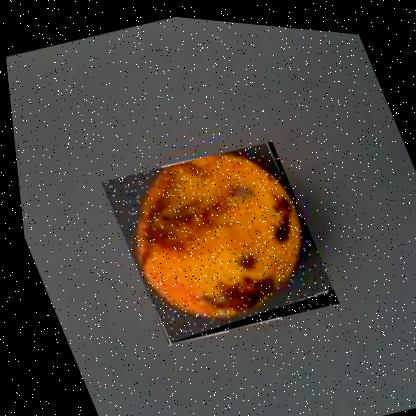mango_rotten: (91, 122, 338, 355)
